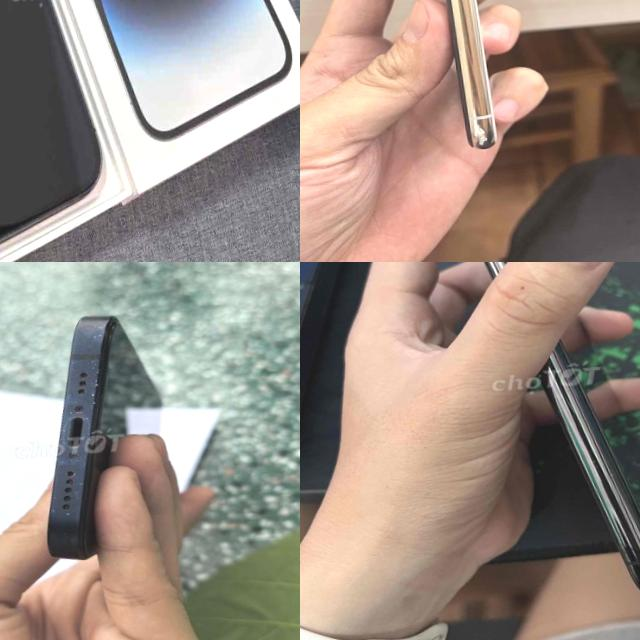scratch: (62, 326, 121, 417), (586, 448, 624, 489)
